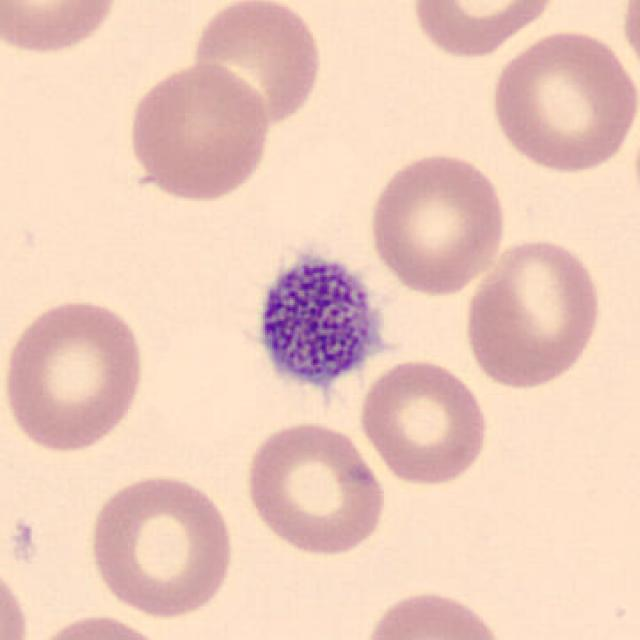Platelets: (243, 238, 393, 406)
RBC: (0, 294, 149, 456), (85, 469, 238, 621), (486, 25, 638, 176), (461, 235, 606, 392), (364, 146, 510, 298), (122, 60, 274, 204), (240, 418, 389, 559), (186, 0, 327, 130), (356, 354, 492, 488), (407, 0, 564, 60), (358, 585, 510, 640), (0, 0, 124, 58), (23, 610, 176, 640), (0, 553, 32, 640), (618, 0, 640, 86)
